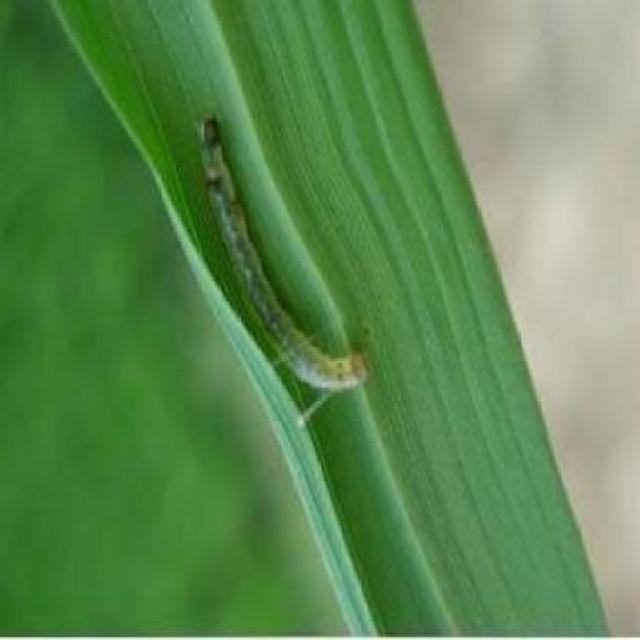leaf-folder: (181, 105, 385, 462)
